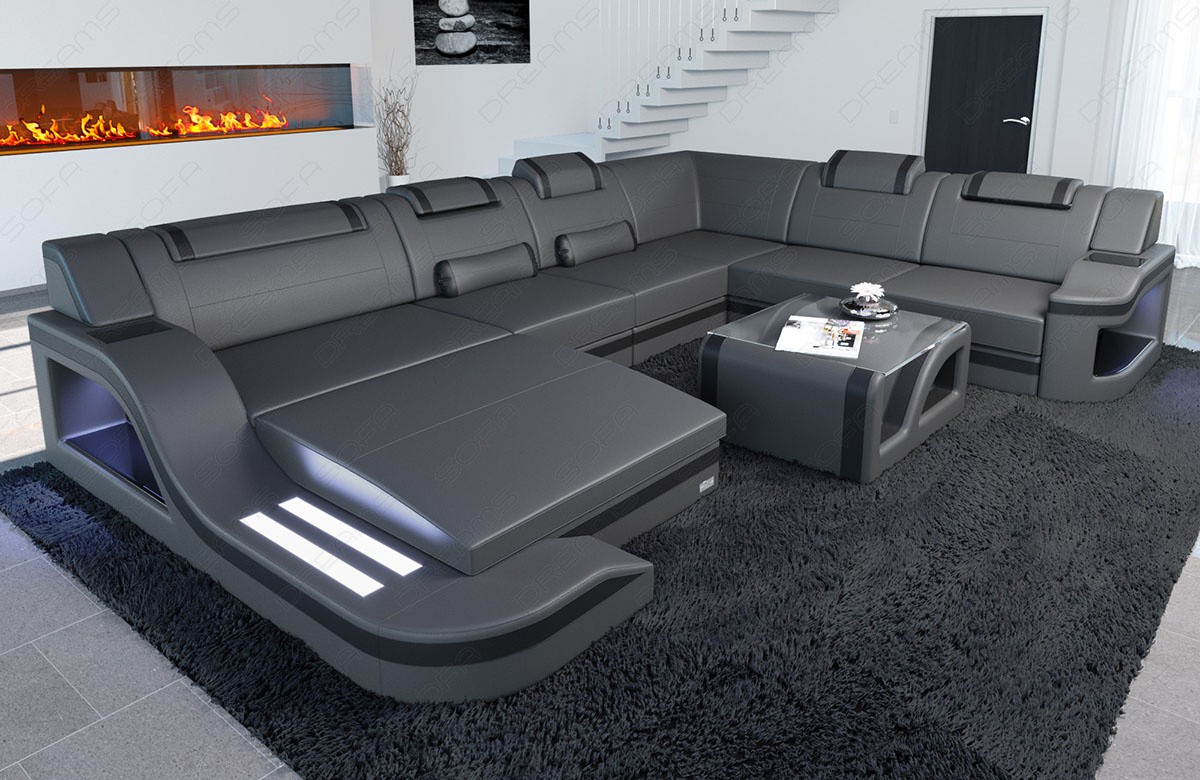meja: (701, 293, 971, 458)
sova: (35, 145, 1175, 450)
